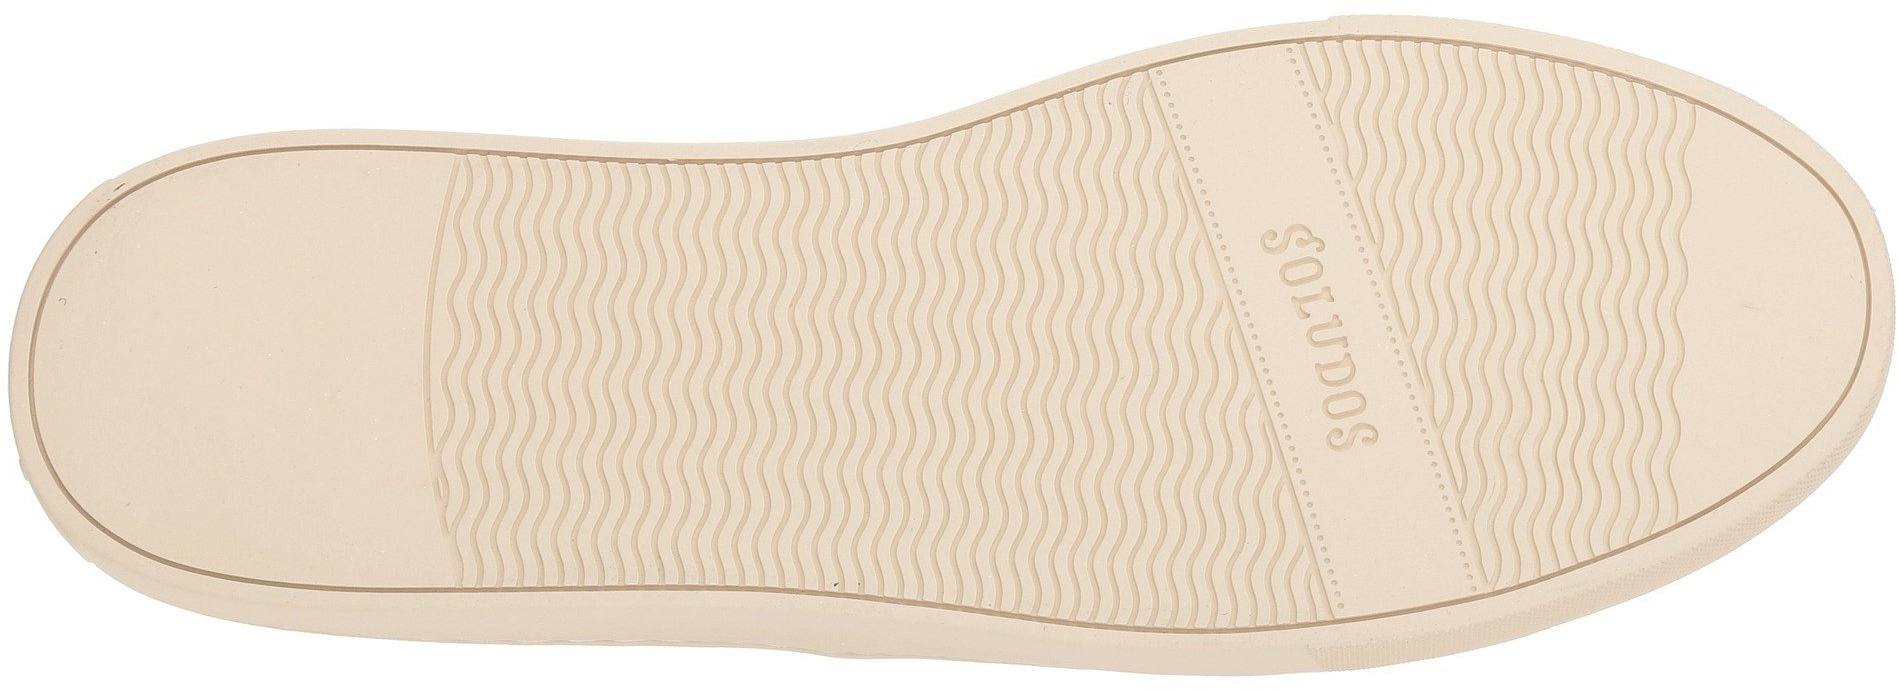chevron: (782, 163, 1174, 567), (461, 176, 776, 481), (1386, 54, 1680, 338), (1457, 347, 1663, 544)
other: (98, 243, 351, 510), (1693, 215, 1857, 372)
text: (1273, 326, 1393, 454), (1250, 218, 1356, 320)
